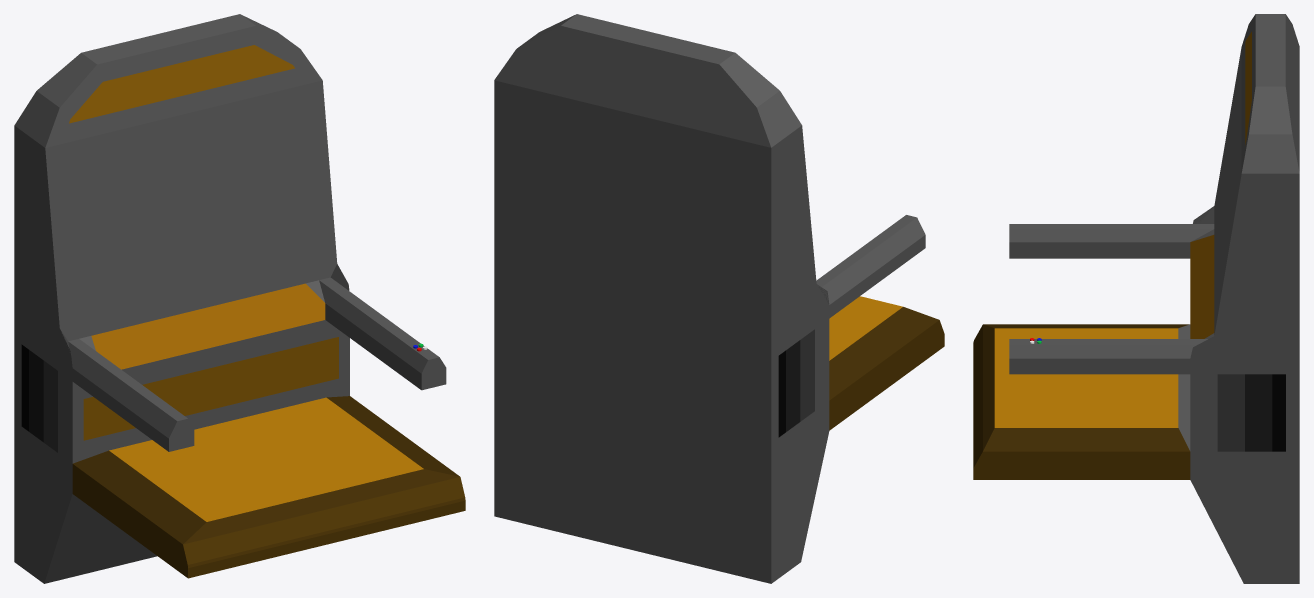
The model's file is chair.fbx.
3 renders of one model, left to right at view 1: azimuth 30°, elevation 25°; view 2: azimuth 150°, elevation 25°; view 3: azimuth 270°, elevation 25°, orthographic. The views are drawn at different scales.
Visible parts, largest first — view 1: Cube; view 2: Cube; view 3: Cube.
Boxes of the visible parts, box(x1,y1,x2,y2) form: Cube: box(14, 14, 465, 583); Cube: box(494, 14, 944, 583); Cube: box(973, 14, 1299, 583).
Bounding box in the file's own units: 200 × 345 × 217.
